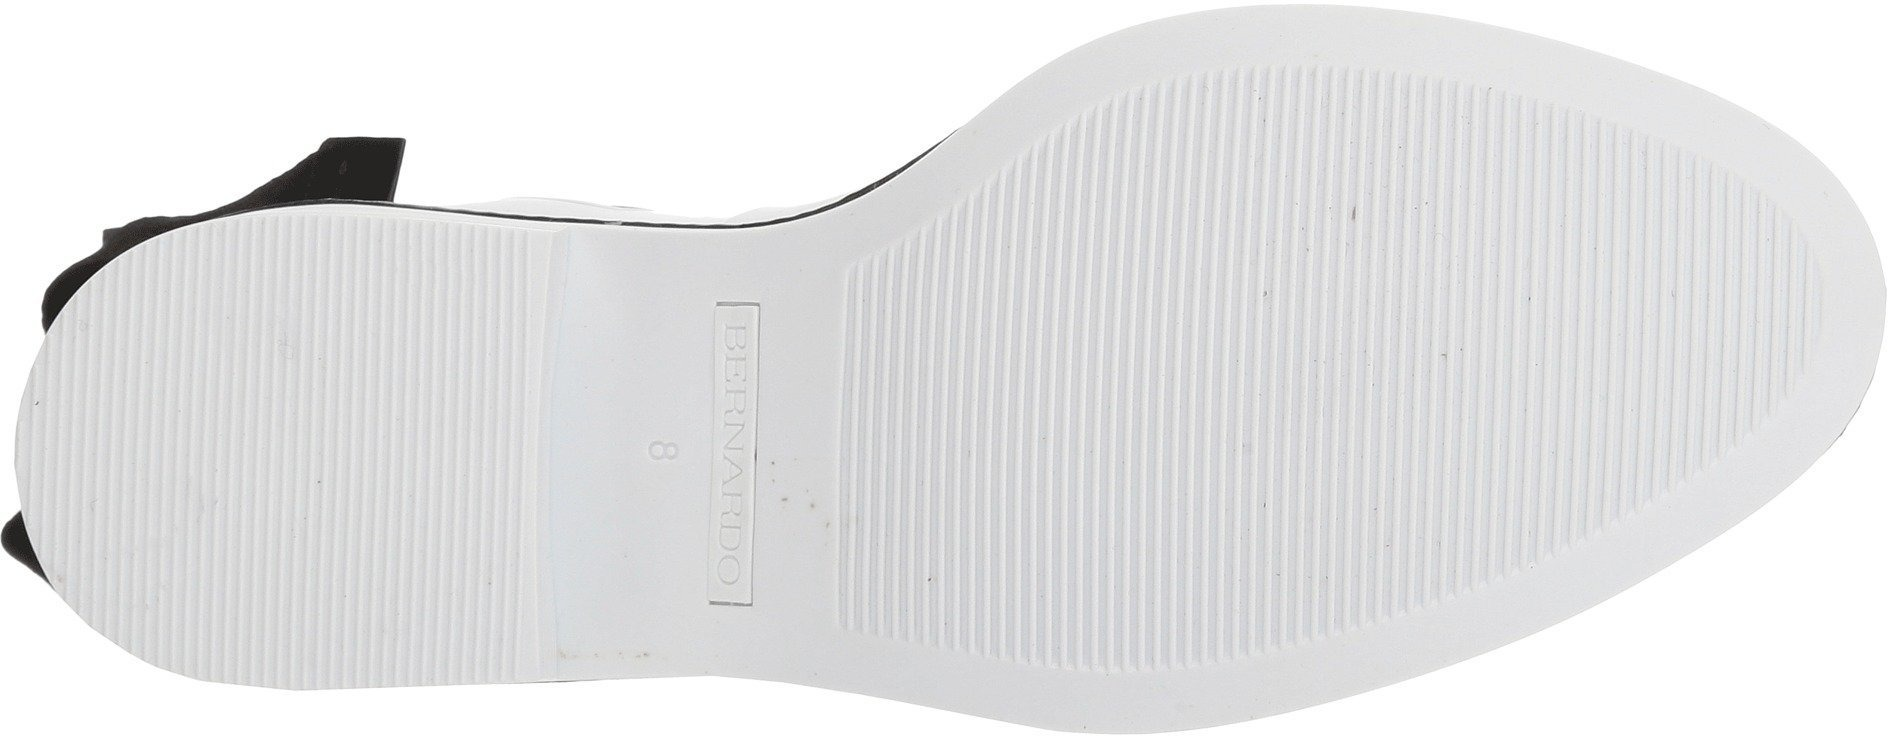other: (1154, 80, 1499, 410), (1505, 157, 1806, 453), (850, 263, 1154, 546), (64, 305, 307, 590), (1167, 416, 1377, 634), (308, 235, 530, 430), (314, 438, 530, 635), (1385, 453, 1506, 591), (1011, 554, 1120, 679), (1037, 137, 1154, 251)
quad: (561, 263, 827, 625)
text: (561, 263, 827, 625), (709, 398, 806, 501), (692, 513, 793, 605), (714, 320, 785, 390), (641, 426, 700, 484)
